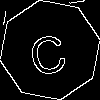C: (25, 25, 70, 77)
